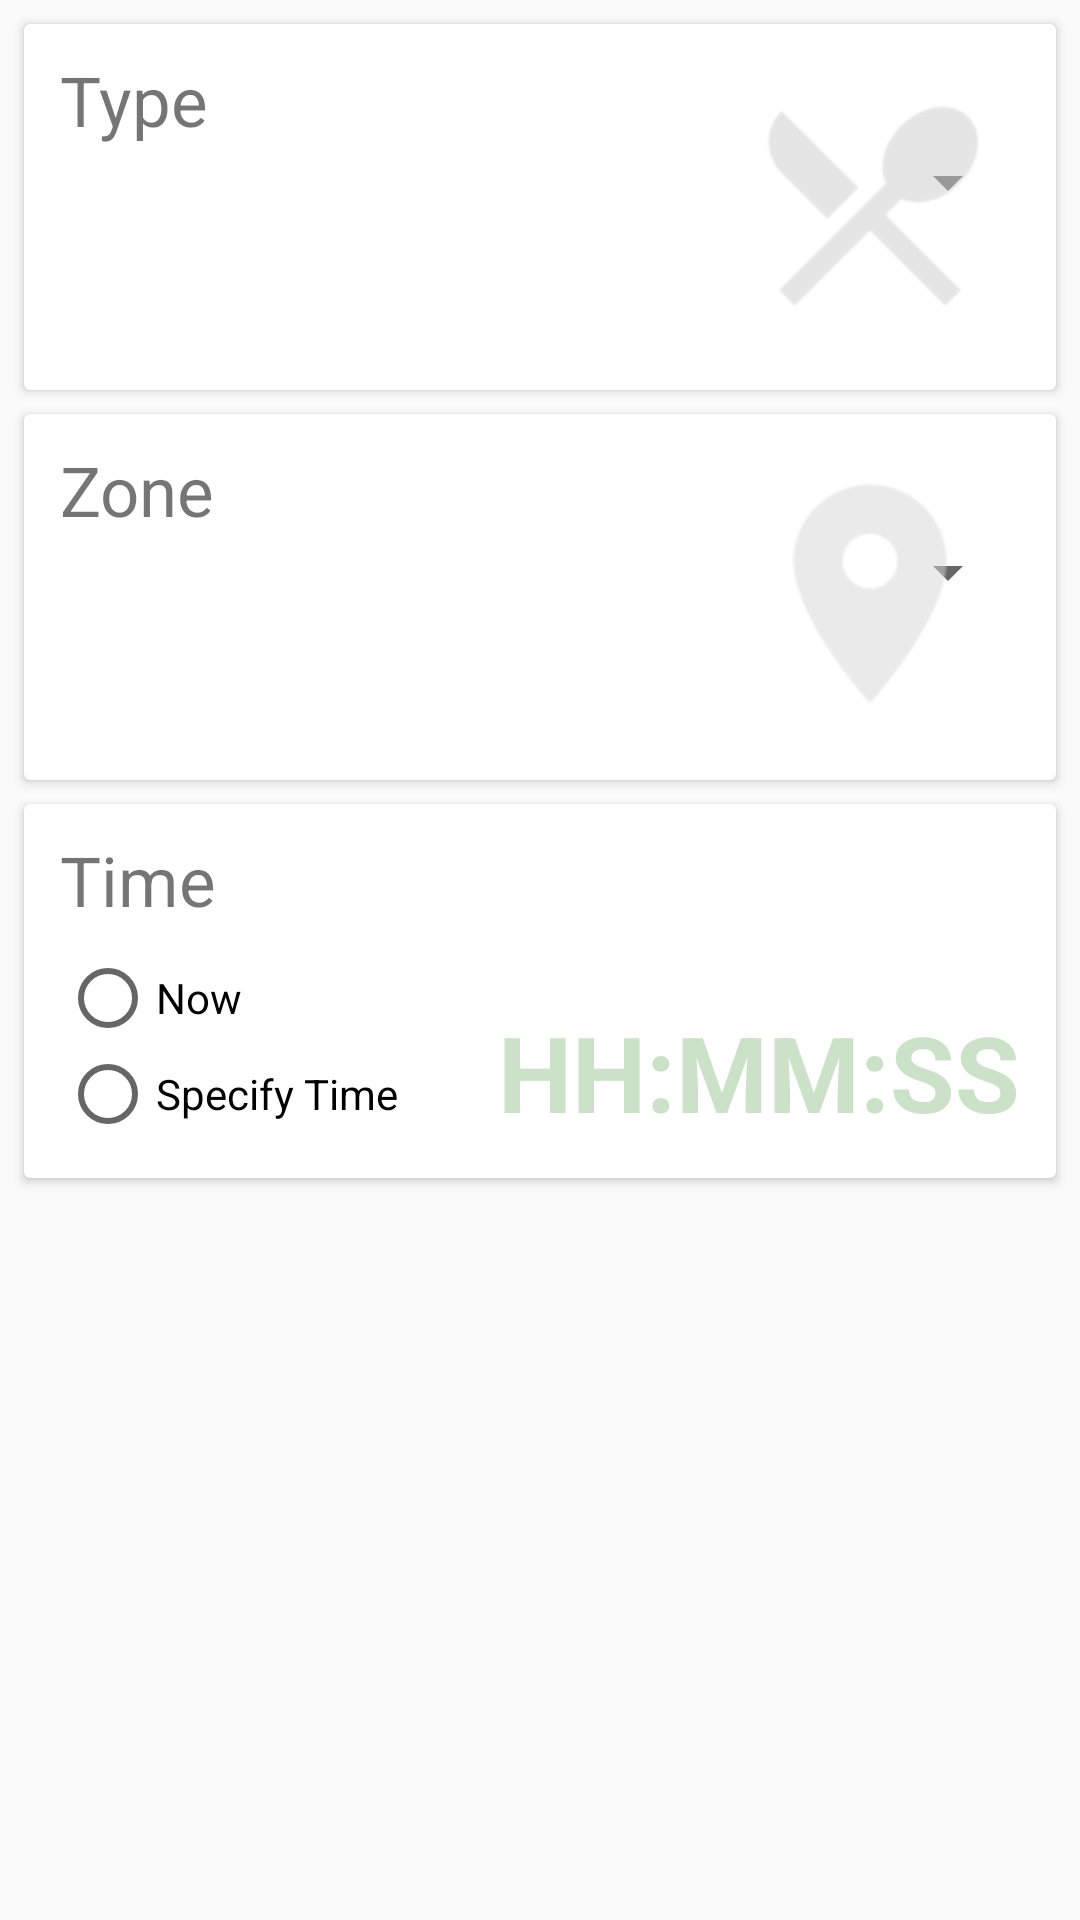

Screen size 1080x1920. Icon name, then its box in pixels as bbox(x1, y1, x2, y2):
dinning: bbox(771, 109, 976, 303)
